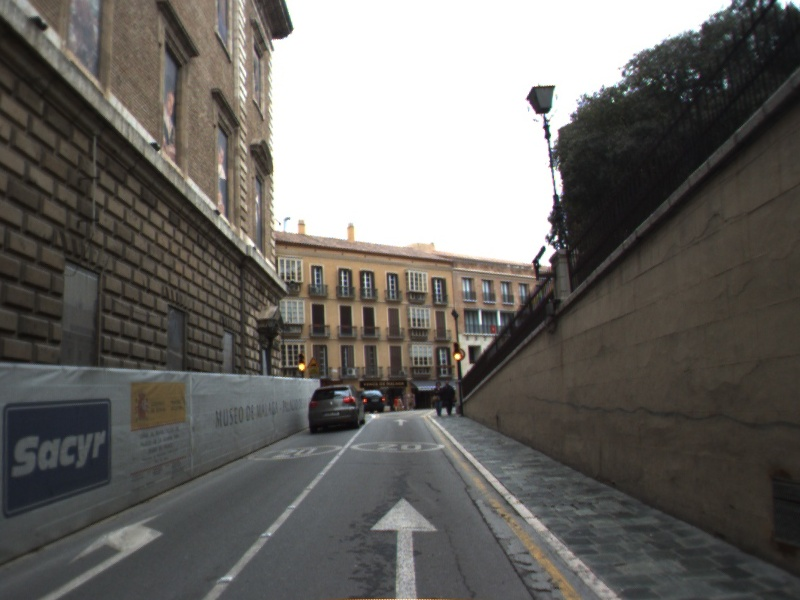LEFT: (35, 508, 171, 600)
STRAIGHT: (366, 495, 442, 600), (392, 417, 410, 427)
